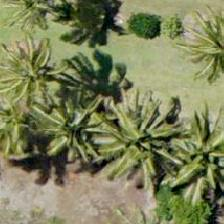Kelapa_Sawit: (94, 97, 184, 187), (34, 81, 124, 171), (0, 29, 74, 119), (0, 76, 64, 166), (163, 107, 223, 198)
